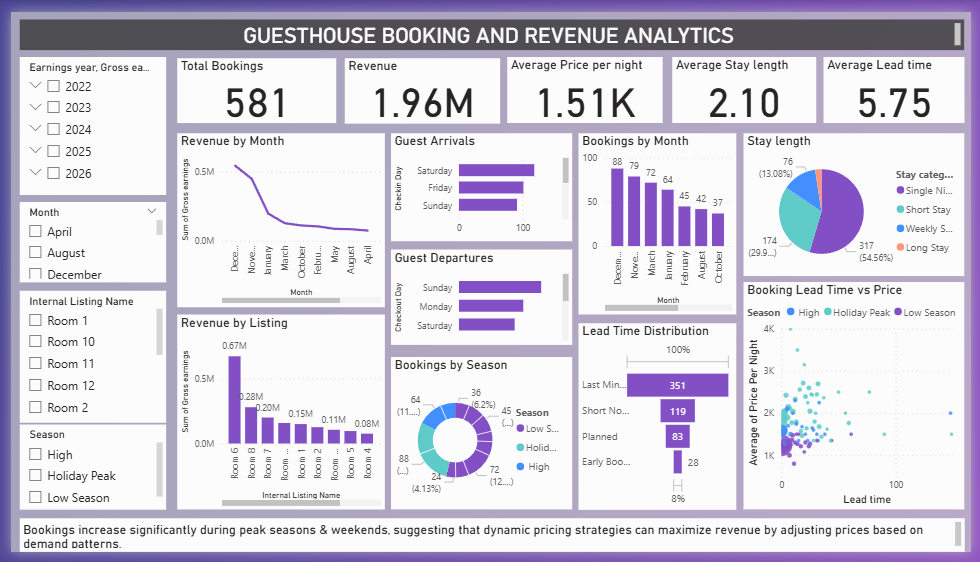

Layout of this report page (visuals, bound fields, positions):
{"tool":"powerbi","page":{"name":"Booking and Revenue Analytics","canvas":[1280,720],"ordinal":0},"visuals":[{"type":"card","title":"Total Bookings","fields":{"Values":["CountNonNull(airbnb_01_2008-03_2026.Listing)"]},"box":[221.7,61.7,211.7,86.7],"z":0},{"type":"card","title":"Revenue","fields":{"Values":["Sum(airbnb_01_2008-03_2026.Gross earnings)"]},"box":[445.4,61,207.5,86.9],"z":1000},{"type":"card","title":"Average Price per night","fields":{"Values":["airbnb_01_2008-03_2026.Avg Price per night"]},"box":[661.4,59.8,207.5,88.1],"z":2000},{"type":"card","title":"Average Stay length","fields":{"Values":["airbnb_01_2008-03_2026.Avg stay length"]},"box":[880.9,59.8,191.8,88.1],"z":3000},{"type":"card","title":"Average Lead time","fields":{"Values":["Avg(airbnb_01_2008-03_2026.Lead time)"]},"box":[1083.6,59.8,188.2,88.1],"z":4000},{"type":"textbox","box":[10.9,9.7,1259.5,41],"z":5000},{"type":"slicer","fields":{"Values":["airbnb_01_2008-03_2026.Internal Listing Name"]},"box":[11.2,371.2,195,176.2],"z":6000},{"type":"slicer","title":"Revenue by Year","fields":{"Values":["airbnb_01_2008-03_2026.Earnings year","airbnb_01_2008-03_2026.Gross earnings"]},"box":[11.2,60,195,183.8],"z":7000},{"type":"lineChart","title":"Revenue by Month","fields":{"Category":["airbnb_01_2008-03_2026.Month"],"Y":["Sum(airbnb_01_2008-03_2026.Gross earnings)"]},"box":[221.7,161.7,276.7,231.7],"z":8000},{"type":"columnChart","title":"Revenue by Listing","fields":{"Category":["airbnb_01_2008-03_2026.Internal Listing Name"],"Y":["Sum(airbnb_01_2008-03_2026.Gross earnings)"]},"box":[221.7,403.3,276.7,260],"z":9000},{"type":"columnChart","title":"Bookings by Month","fields":{"Category":["airbnb_01_2008-03_2026.Month"],"Y":["CountNonNull(airbnb_01_2008-03_2026.Guest)"]},"box":[757.1,161.4,210,241.4],"z":10000},{"type":"pieChart","title":"Stay length","fields":{"Category":["airbnb_01_2008-03_2026.Stay category"],"Y":["CountNonNull(airbnb_01_2008-03_2026.Stay category)"]},"box":[977.1,161.4,294.3,190],"z":11000},{"type":"funnel","title":"Lead Time Distribution","fields":{"Category":["airbnb_01_2008-03_2026.Booking Window"],"Y":["CountNonNull(airbnb_01_2008-03_2026.Booking Window)"]},"box":[757.1,414.3,210,248.6],"z":12000},{"type":"barChart","title":"Guest Arrivals","fields":{"Category":["airbnb_01_2008-03_2026.Checkin Day"],"Y":["CountNonNull(airbnb_01_2008-03_2026.Checkin Day)"]},"box":[507.1,161.4,241.4,144.3],"z":13000},{"type":"barChart","title":"Guest Departures","fields":{"Y":["CountNonNull(airbnb_01_2008-03_2026.Checkout Day)"],"Category":["airbnb_01_2008-03_2026.Checkout Day"]},"box":[507.1,317.1,241.4,127.1],"z":14000},{"type":"donutChart","title":"Bookings by Season","fields":{"Category":["airbnb_01_2008-03_2026.Season"],"Y":["CountNonNull(airbnb_01_2008-03_2026.Guest)"],"Series":["airbnb_01_2008-03_2026.Month"]},"box":[507.1,460,241.4,202.9],"z":15000},{"type":"slicer","fields":{"Values":["airbnb_01_2008-03_2026.Season"]},"box":[11.7,550,195,113.3],"z":16000},{"type":"slicer","fields":{"Values":["airbnb_01_2008-03_2026.Month"]},"box":[11.2,252.5,195,107.5],"z":17000},{"type":"scatterChart","title":"Booking Lead Time vs Price","fields":{"Y":["Avg(airbnb_01_2008-03_2026.Price Per Night)"],"X":["airbnb_01_2008-03_2026.Lead time"],"Series":["airbnb_01_2008-03_2026.Season"],"Size":["CountNonNull(airbnb_01_2008-03_2026.Guest)"]},"box":[977.1,360,294.3,302.9],"z":18000},{"type":"textbox","box":[11.7,675,1260,45],"z":19000}]}

Visuals, with their boxes in screenshot pixels (x1, y1, x2, y2), scaled from the page's 1280x720 canvas onto the 980x562 screenshot:
"Total Bookings" card: left=170, top=48, right=332, bottom=116
"Revenue" card: left=341, top=48, right=500, bottom=115
"Average Price per night" card: left=506, top=47, right=665, bottom=115
"Average Stay length" card: left=674, top=47, right=821, bottom=115
"Average Lead time" card: left=830, top=47, right=974, bottom=115
textbox: left=8, top=8, right=973, bottom=40
slicer - airbnb_01_2008-03_2026.Internal Listing Name: left=9, top=290, right=158, bottom=427
"Revenue by Year" slicer: left=9, top=47, right=158, bottom=190
"Revenue by Month" lineChart: left=170, top=126, right=382, bottom=307
"Revenue by Listing" columnChart: left=170, top=315, right=382, bottom=518
"Bookings by Month" columnChart: left=580, top=126, right=740, bottom=314
"Stay length" pieChart: left=748, top=126, right=973, bottom=274
"Lead Time Distribution" funnel: left=580, top=323, right=740, bottom=517
"Guest Arrivals" barChart: left=388, top=126, right=573, bottom=239
"Guest Departures" barChart: left=388, top=248, right=573, bottom=347
"Bookings by Season" donutChart: left=388, top=359, right=573, bottom=517
slicer - airbnb_01_2008-03_2026.Season: left=9, top=429, right=158, bottom=518
slicer - airbnb_01_2008-03_2026.Month: left=9, top=197, right=158, bottom=281
"Booking Lead Time vs Price" scatterChart: left=748, top=281, right=973, bottom=517
textbox: left=9, top=527, right=974, bottom=561
